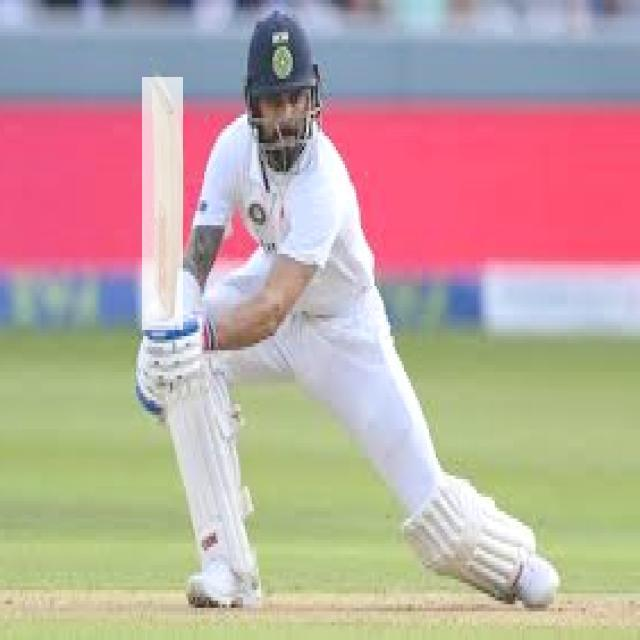bat: (140, 72, 187, 330)
toe: (140, 74, 187, 113)
